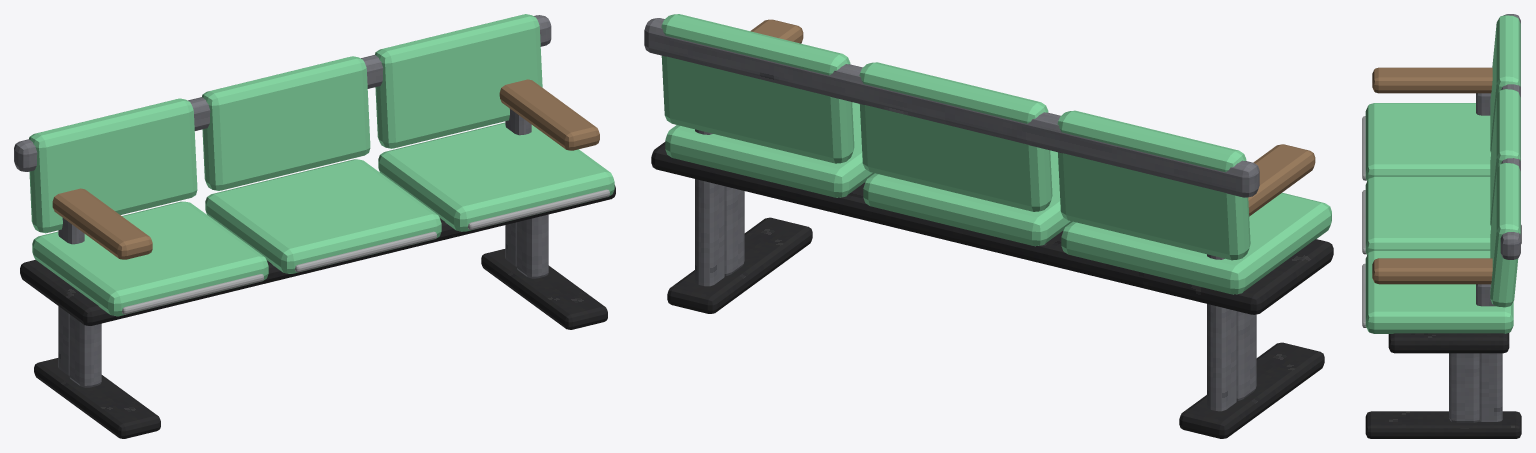
The model's file is decor_hall_waiting_bench.glb.
3 views of the same model, side by side, from view 1: azimuth 30°, elevation 25°; view 2: azimuth 150°, elevation 25°; view 3: azimuth 270°, elevation 25° (orthographic). The views are drawn at different scales.
Visible parts, largest first — view 1: DEC_HallWaitingBench__Back_1, DEC_HallWaitingBench__Seat_1, DEC_HallWaitingBench__Back_2, DEC_HallWaitingBench__Seat_2, DEC_HallWaitingBench__Back_0, DEC_HallWaitingBench__Seat_0, DEC_HallWaitingBench__Seat_Rail, DEC_HallWaitingBench__Foot_0, DEC_HallWaitingBench__Foot_1, DEC_HallWaitingBench__Arm_Pad_0, DEC_HallWaitingBench__Arm_Pad_1, DEC_HallWaitingBench__Upright_0 (+7 smaller); view 2: DEC_HallWaitingBench__Back_2, DEC_HallWaitingBench__Back_0, DEC_HallWaitingBench__Back_1, DEC_HallWaitingBench__Back_Rail, DEC_HallWaitingBench__Seat_Rail, DEC_HallWaitingBench__Seat_0, DEC_HallWaitingBench__Seat_1, DEC_HallWaitingBench__Seat_2, DEC_HallWaitingBench__Foot_0, DEC_HallWaitingBench__Foot_1, DEC_HallWaitingBench__Arm_Post_1, DEC_HallWaitingBench__Arm_Post_0 (+4 smaller); view 3: DEC_HallWaitingBench__Seat_1, DEC_HallWaitingBench__Seat_0, DEC_HallWaitingBench__Seat_2, DEC_HallWaitingBench__Foot_1, DEC_HallWaitingBench__Back_2, DEC_HallWaitingBench__Arm_Pad_0, DEC_HallWaitingBench__Arm_Pad_1, DEC_HallWaitingBench__Seat_Rail, DEC_HallWaitingBench__Back_1, DEC_HallWaitingBench__Back_0, DEC_HallWaitingBench__Upright_1, DEC_HallWaitingBench__Arm_Post_1 (+5 smaller).
Part boxes in pixels (bbox=[...]): DEC_HallWaitingBench__Back_1: bbox=[202, 56, 370, 190]; DEC_HallWaitingBench__Seat_1: bbox=[205, 159, 441, 273]; DEC_HallWaitingBench__Back_2: bbox=[375, 14, 542, 148]; DEC_HallWaitingBench__Seat_2: bbox=[378, 122, 614, 231]; DEC_HallWaitingBench__Back_0: bbox=[29, 98, 197, 233]; DEC_HallWaitingBench__Seat_0: bbox=[32, 201, 268, 316]; DEC_HallWaitingBench__Seat_Rail: bbox=[20, 185, 615, 325]; DEC_HallWaitingBench__Foot_0: bbox=[34, 358, 160, 438]; DEC_HallWaitingBench__Foot_1: bbox=[481, 249, 607, 329]; DEC_HallWaitingBench__Arm_Pad_0: bbox=[52, 188, 152, 259]; DEC_HallWaitingBench__Arm_Pad_1: bbox=[499, 79, 599, 150]; DEC_HallWaitingBench__Upright_0: bbox=[69, 314, 101, 387]; DEC_HallWaitingBench__Back_2: bbox=[661, 14, 854, 163]; DEC_HallWaitingBench__Back_0: bbox=[1057, 110, 1250, 260]; DEC_HallWaitingBench__Back_1: bbox=[859, 62, 1052, 211]; DEC_HallWaitingBench__Back_Rail: bbox=[644, 18, 1259, 197]; DEC_HallWaitingBench__Seat_Rail: bbox=[651, 142, 1333, 314]; DEC_HallWaitingBench__Seat_0: bbox=[1061, 192, 1331, 294]; DEC_HallWaitingBench__Seat_1: bbox=[863, 150, 1072, 246]; DEC_HallWaitingBench__Seat_2: bbox=[665, 102, 874, 197]; DEC_HallWaitingBench__Foot_0: bbox=[1179, 342, 1324, 438]; DEC_HallWaitingBench__Foot_1: bbox=[667, 217, 812, 313]; DEC_HallWaitingBench__Arm_Post_1: bbox=[695, 129, 724, 286]; DEC_HallWaitingBench__Arm_Post_0: bbox=[1207, 254, 1236, 411]; DEC_HallWaitingBench__Seat_1: bbox=[1365, 176, 1490, 254]; DEC_HallWaitingBench__Seat_0: bbox=[1365, 103, 1490, 181]; DEC_HallWaitingBench__Seat_2: bbox=[1365, 250, 1513, 333]; DEC_HallWaitingBench__Foot_1: bbox=[1365, 411, 1521, 438]; DEC_HallWaitingBench__Back_2: bbox=[1490, 162, 1520, 307]; DEC_HallWaitingBench__Arm_Pad_0: bbox=[1372, 67, 1492, 93]; DEC_HallWaitingBench__Arm_Pad_1: bbox=[1372, 258, 1492, 284]; DEC_HallWaitingBench__Seat_Rail: bbox=[1388, 333, 1509, 353]; DEC_HallWaitingBench__Back_1: bbox=[1490, 89, 1520, 226]; DEC_HallWaitingBench__Back_0: bbox=[1490, 15, 1520, 152]; DEC_HallWaitingBench__Upright_1: bbox=[1449, 353, 1479, 422]; DEC_HallWaitingBench__Arm_Post_1: bbox=[1476, 284, 1502, 421].
Size of the model in its own units: 2 by 0.8905 by 0.5925.
5 materials, 3 textured.
